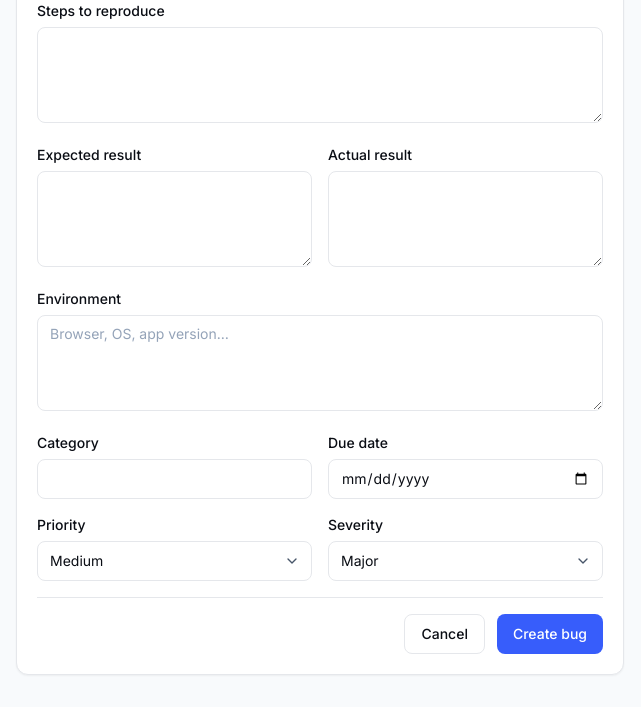
it: NewBugPage › shows validation errors for an empty submission
(page scrolled)
Click the button "Create bug": (550, 634) x1=497 y1=614 x2=603 y2=654
(page scrolled)
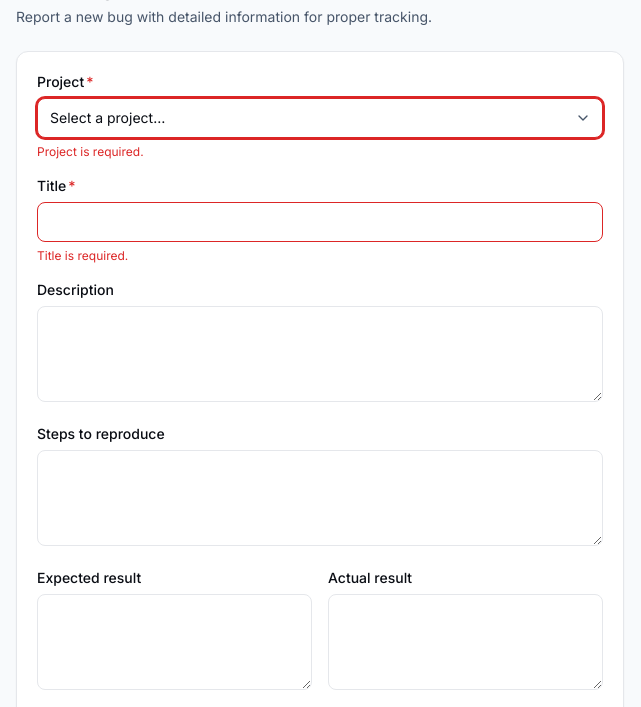
expect the text "Project is required." is shown: met, box x1=37 y1=144 x2=144 y2=159
